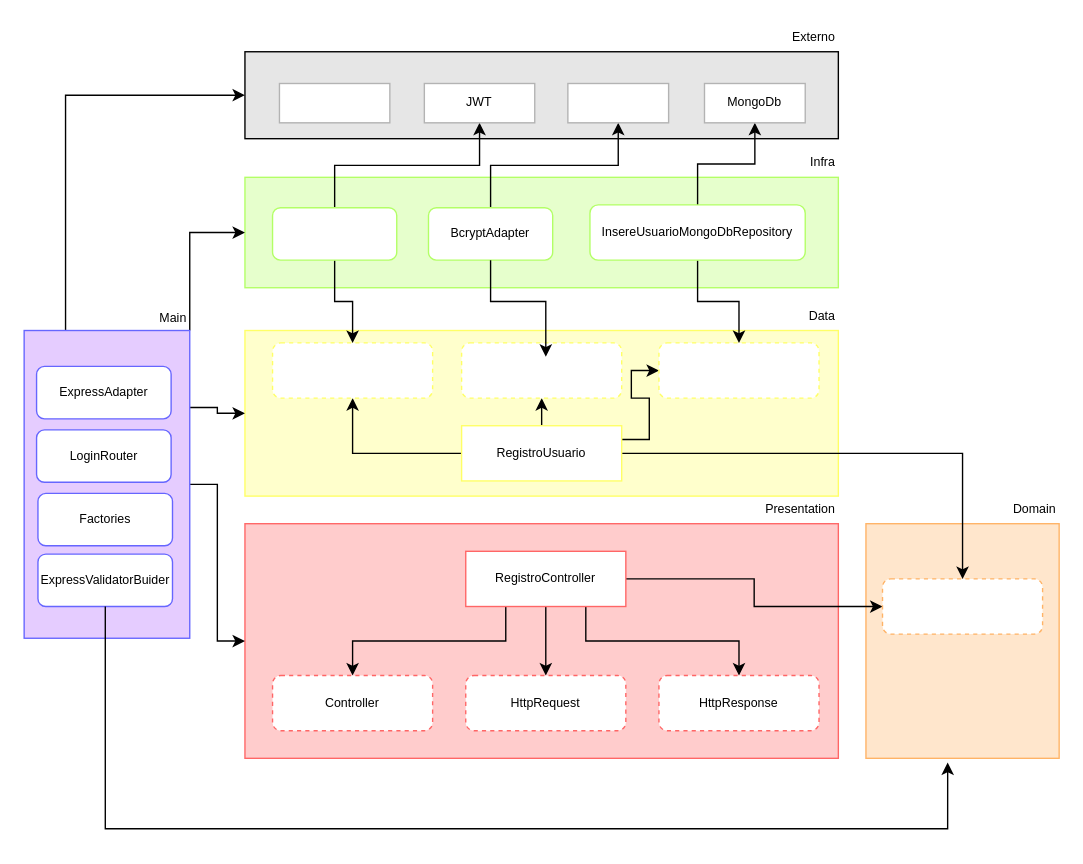
Image size: 1083x864. Some labels were removed from this diagram. Each missing label, with the box of its shape:
Bcrypt: (566, 82, 669, 123)
Express: (278, 82, 390, 123)
GeradorToken: (271, 342, 433, 398)
Hasher: (460, 342, 622, 398)
JwtAdapter: (271, 206, 397, 260)
RegistradorUsuario: (658, 342, 819, 398)
RegistrarUsuario: (881, 578, 1043, 634)
